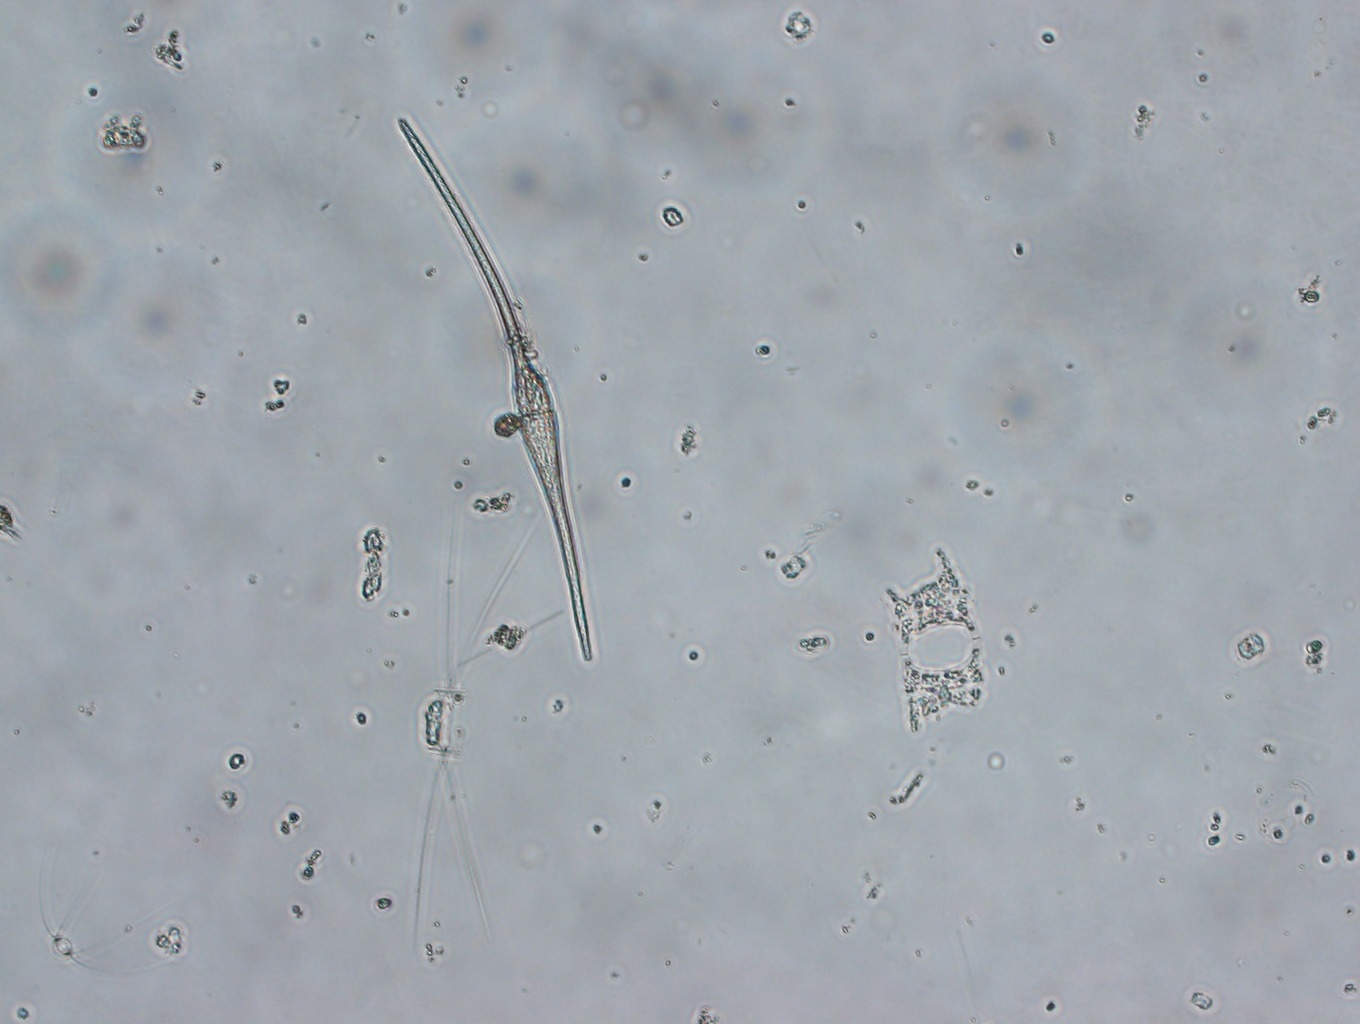ceratium fusus: (395, 111, 602, 675)
chaetoceros: (402, 489, 553, 957)
eucampia: (869, 543, 991, 749)
